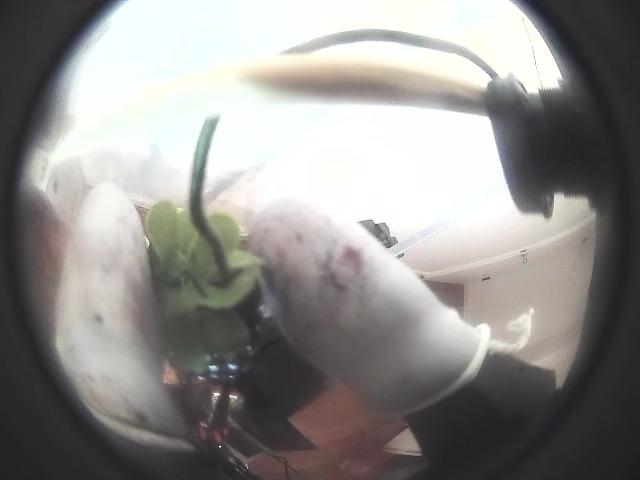berry: (141, 201, 261, 385)
gripper: (245, 192, 490, 415), (54, 184, 188, 447)
lense: (0, 0, 209, 479), (431, 0, 639, 479)
